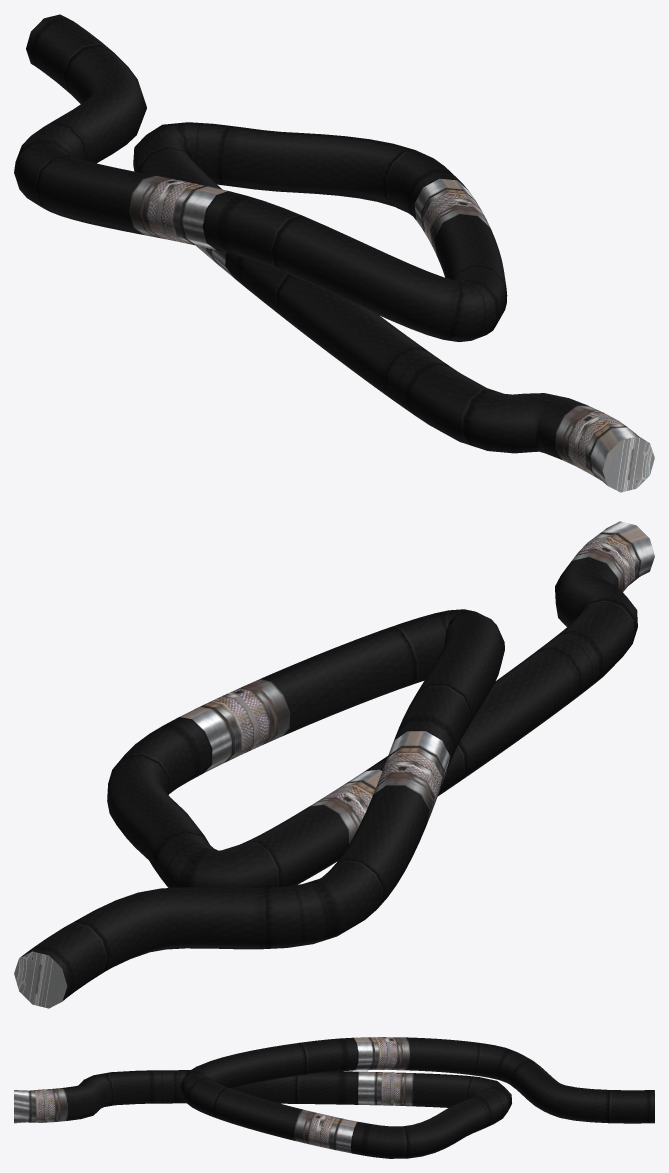
The model's file is SM_Hose6.fbx.
The picture shows the model from 3 angles, top to bottom: view 1: azimuth 30°, elevation 25°; view 2: azimuth 150°, elevation 25°; view 3: azimuth 270°, elevation 25°; orthographic projection. The views are drawn at different scales.
Visible parts, largest first — view 1: SM_Hose6_LOD0; view 2: SM_Hose6_LOD0; view 3: SM_Hose6_LOD0.
Part boxes in pixels (left/top/right/bottom): SM_Hose6_LOD0: left=14, top=14, right=654, bottom=492; SM_Hose6_LOD0: left=14, top=521, right=654, bottom=1008; SM_Hose6_LOD0: left=14, top=1037, right=654, bottom=1158.
Bounding box in the file's own units: 66.71 × 200 × 19.59.
Materials: 2 (2 with a texture image).
